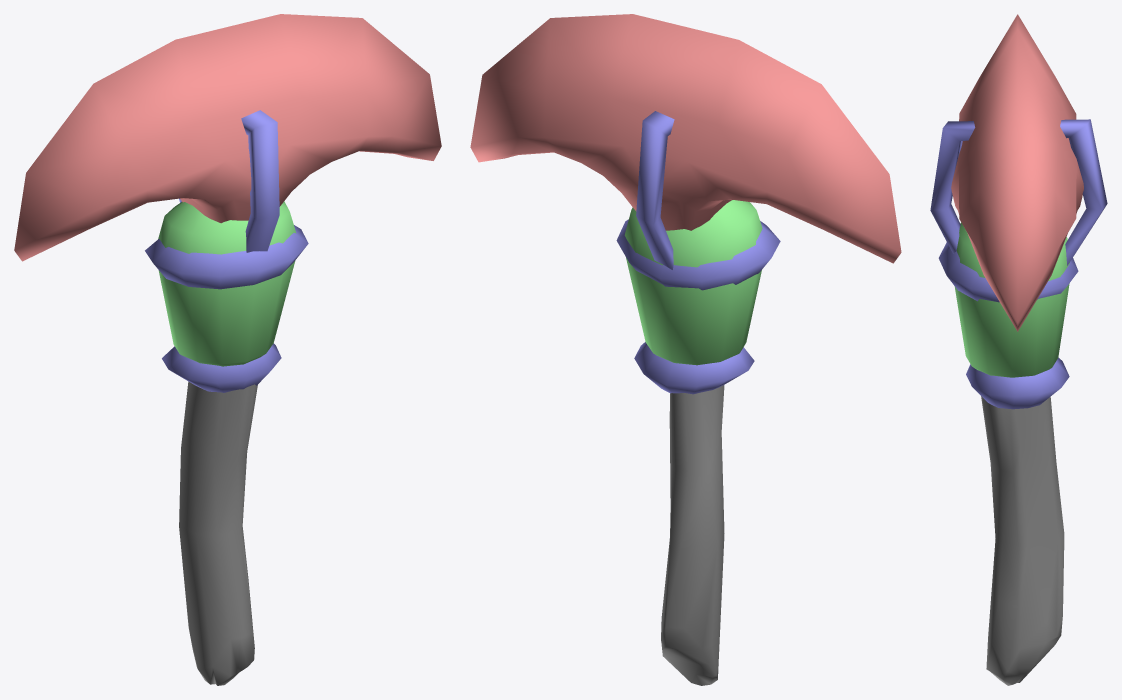
Rendered from tool_tannery_generic_A.gltf.
3 views of the same model, side by side, from view 1: azimuth 30°, elevation 25°; view 2: azimuth 150°, elevation 25°; view 3: azimuth 270°, elevation 25° (orthographic). The views are drawn at different scales.
Visible parts, largest first — view 1: tool_tannery_generic_A; view 2: tool_tannery_generic_A; view 3: tool_tannery_generic_A.
Part boxes in pixels (left/top/right/bottom): tool_tannery_generic_A: left=14, top=14, right=441, bottom=685; tool_tannery_generic_A: left=470, top=14, right=901, bottom=685; tool_tannery_generic_A: left=930, top=14, right=1107, bottom=685.
Size of the model in its own units: 0.1615 by 0.2346 by 0.0595.
